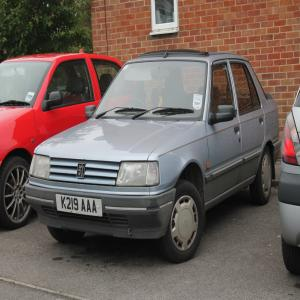Vehicle-registration-plate: (57, 195, 103, 219)
